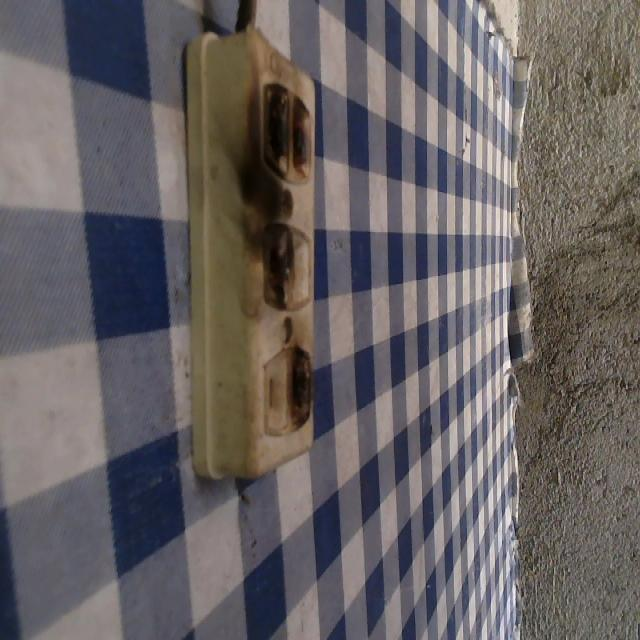-: (240, 64, 319, 189), (250, 214, 295, 314), (285, 341, 316, 432)
